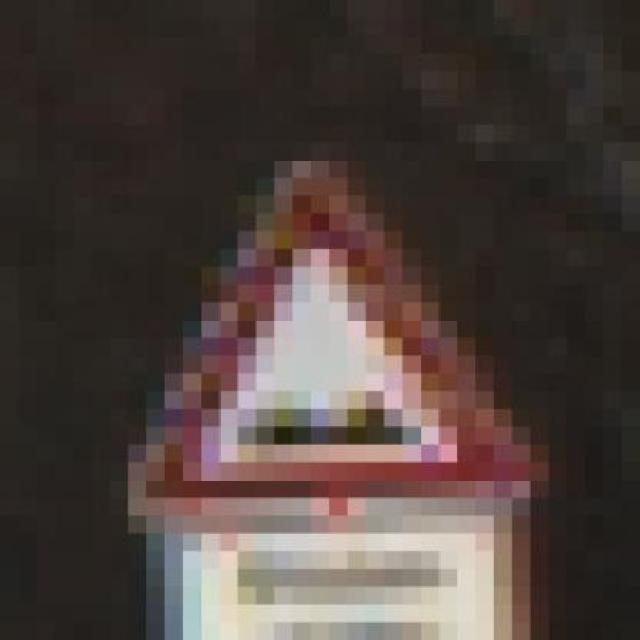Uneven Road: (128, 124, 549, 534)
